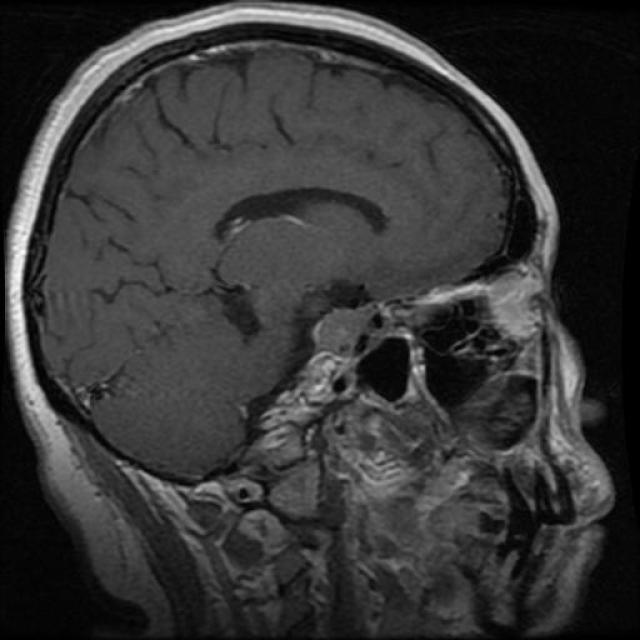pituitary: (288, 293, 422, 406)
